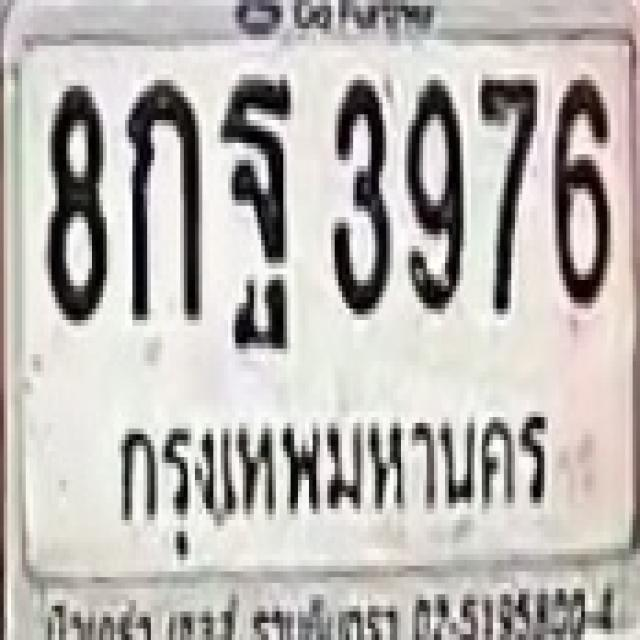3: (328, 74, 387, 309)
6: (552, 74, 607, 303)
7: (476, 74, 535, 309)
8: (44, 80, 103, 320)
9: (404, 74, 460, 309)
A01: (125, 74, 199, 314)
A16: (217, 74, 291, 309)
BKK: (101, 388, 563, 545)
